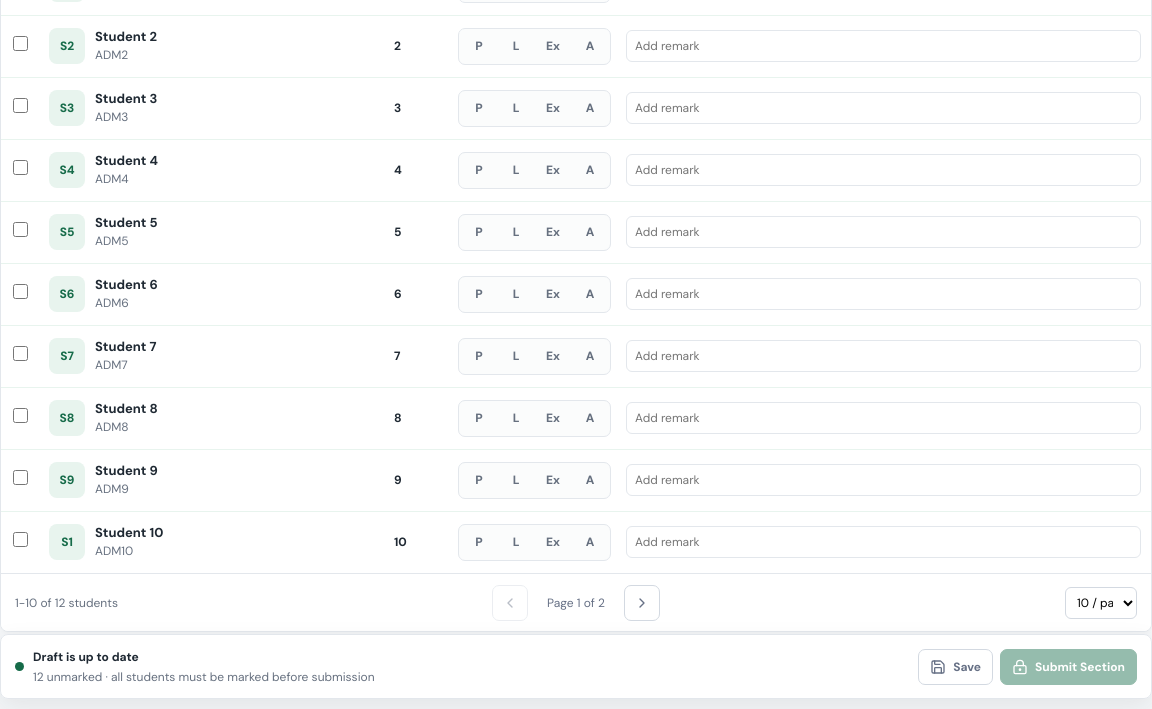
Test case: SectionRoster › paginates a long roster without changing the table height contract
(page scrolled)
Expected: the text "Student 11" is not shown
Click the button named "Next page".
click(642, 602)  # box [624, 584, 660, 620]
(page scrolled)
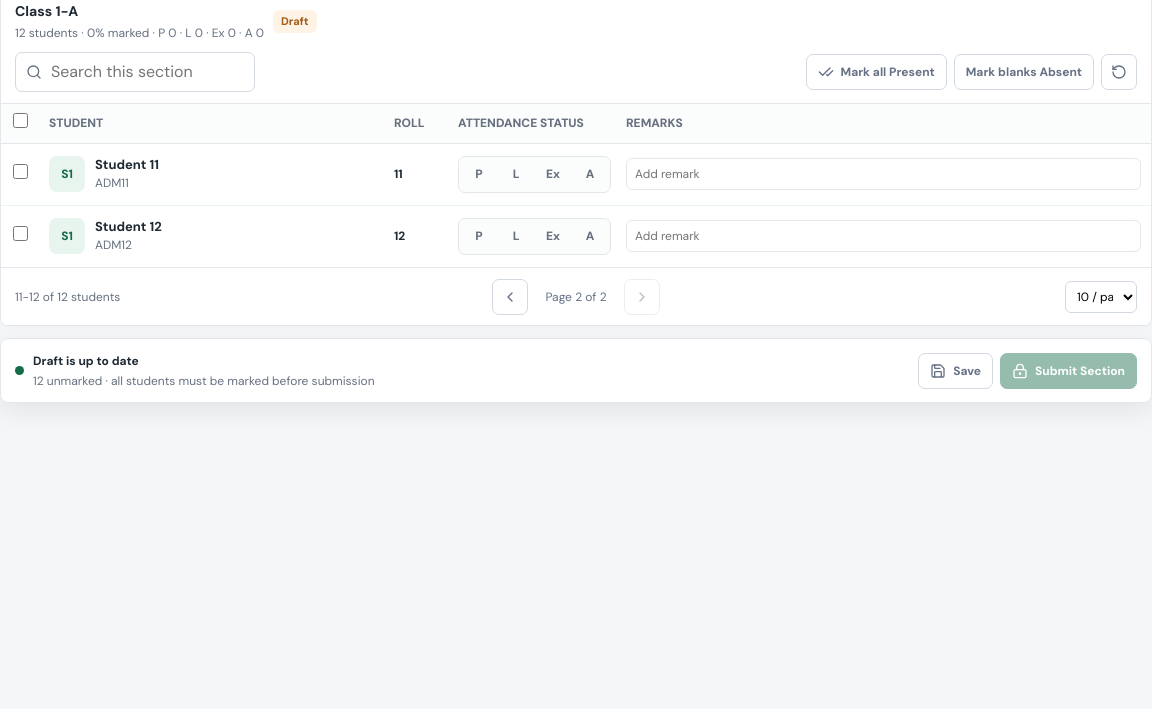
Result: the text "Student 11" is shown at [95, 157, 159, 174]
Result: the text "11-12 of 12 students" is shown at [15, 288, 120, 304]
